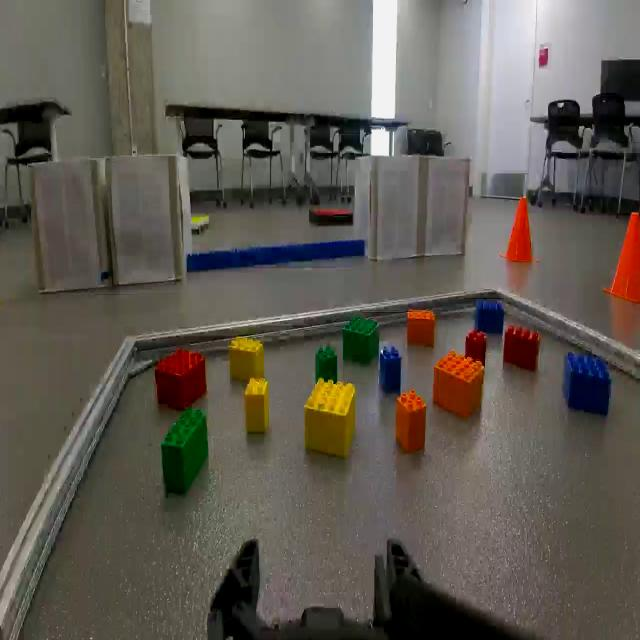block: (306, 378, 356, 462), (228, 335, 266, 381), (245, 375, 271, 437)
blue: (562, 348, 612, 422), (474, 296, 504, 336), (380, 346, 403, 395)
cone: (602, 208, 640, 308), (500, 192, 542, 264)
green: (160, 406, 210, 502), (343, 314, 379, 366), (315, 346, 339, 386)
metal barrier: (0, 284, 640, 640)
orange: (432, 348, 485, 422), (397, 390, 427, 457), (406, 308, 436, 346)
red: (308, 204, 354, 228)
red goal: (154, 343, 208, 411), (503, 320, 541, 376), (466, 330, 486, 366)
river: (188, 238, 364, 274)
storage cube: (29, 156, 111, 294), (106, 156, 190, 290), (355, 155, 421, 264), (422, 158, 470, 260)
